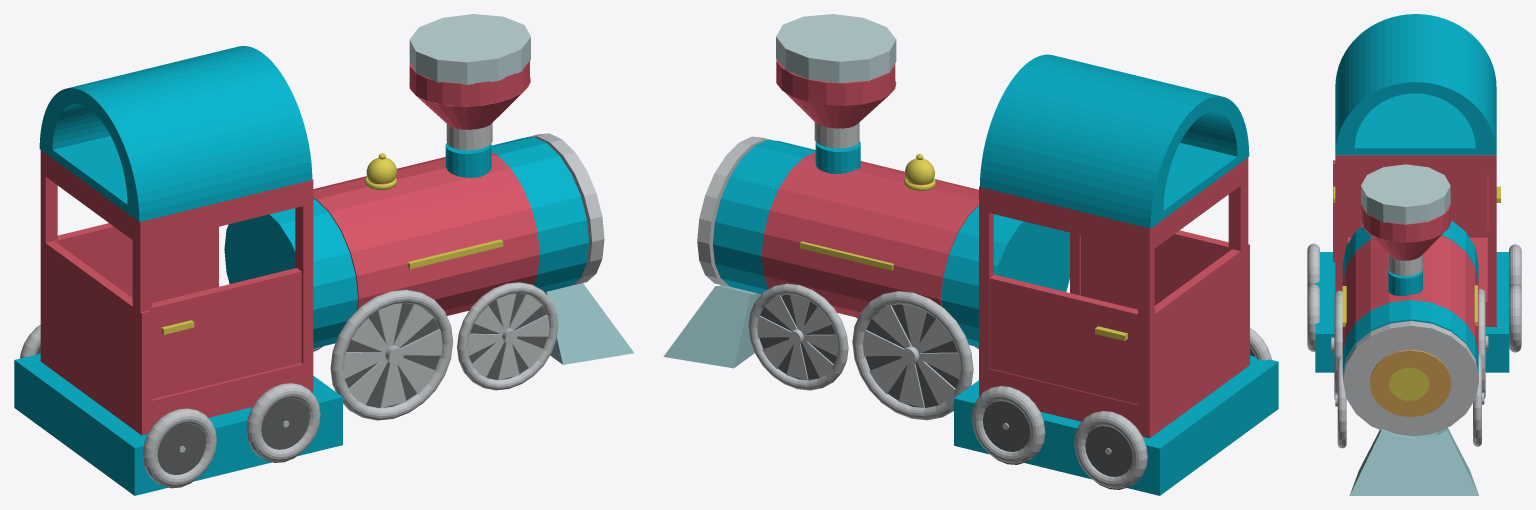
File: train.glb
3 views of the same model, side by side, from view 1: azimuth 30°, elevation 25°; view 2: azimuth 150°, elevation 25°; view 3: azimuth 270°, elevation 25° (orthographic). The views are drawn at different scales.
Visible parts, largest first — view 1: Mesh_Mesh_head_geo.001_lambert2SG.001; view 2: Mesh_Mesh_head_geo.001_lambert2SG.001; view 3: Mesh_Mesh_head_geo.001_lambert2SG.001.
Part boxes in pixels (x1=…): Mesh_Mesh_head_geo.001_lambert2SG.001: x1=14, y1=14, x2=634, y2=495; Mesh_Mesh_head_geo.001_lambert2SG.001: x1=663, y1=14, x2=1278, y2=495; Mesh_Mesh_head_geo.001_lambert2SG.001: x1=1307, y1=14, x2=1521, y2=495.
Bounding box in the file's own units: 60.3 × 38.8 × 26.55.
